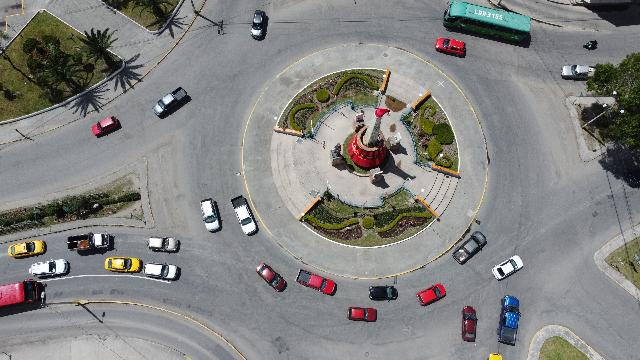Vehiculo: (0, 279, 48, 317), (497, 296, 521, 346), (295, 268, 337, 296), (452, 231, 486, 265), (230, 195, 258, 235), (152, 86, 188, 116), (256, 262, 286, 292), (491, 256, 523, 280), (30, 260, 70, 278), (8, 240, 46, 258), (416, 284, 446, 306), (200, 198, 220, 231), (106, 256, 142, 274), (144, 262, 178, 280), (436, 37, 466, 57), (461, 306, 477, 342), (561, 64, 595, 80), (92, 116, 118, 136), (148, 236, 178, 252), (348, 306, 377, 322), (251, 9, 267, 38), (368, 286, 398, 300), (488, 353, 502, 359)
